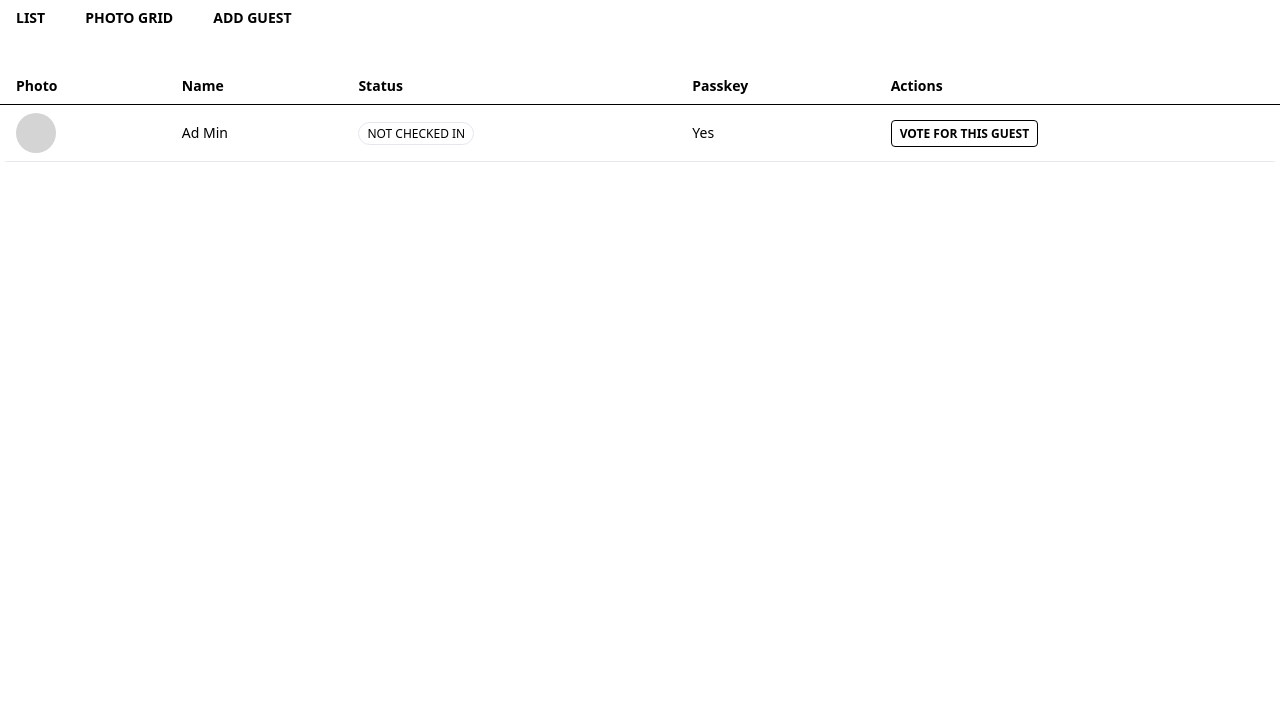
Test: Has passkey indicator › shows no Remove Passkey button for an admin, even one with a passkey
Click the text "Ad Min": point(191, 132) [166,104,342,162]
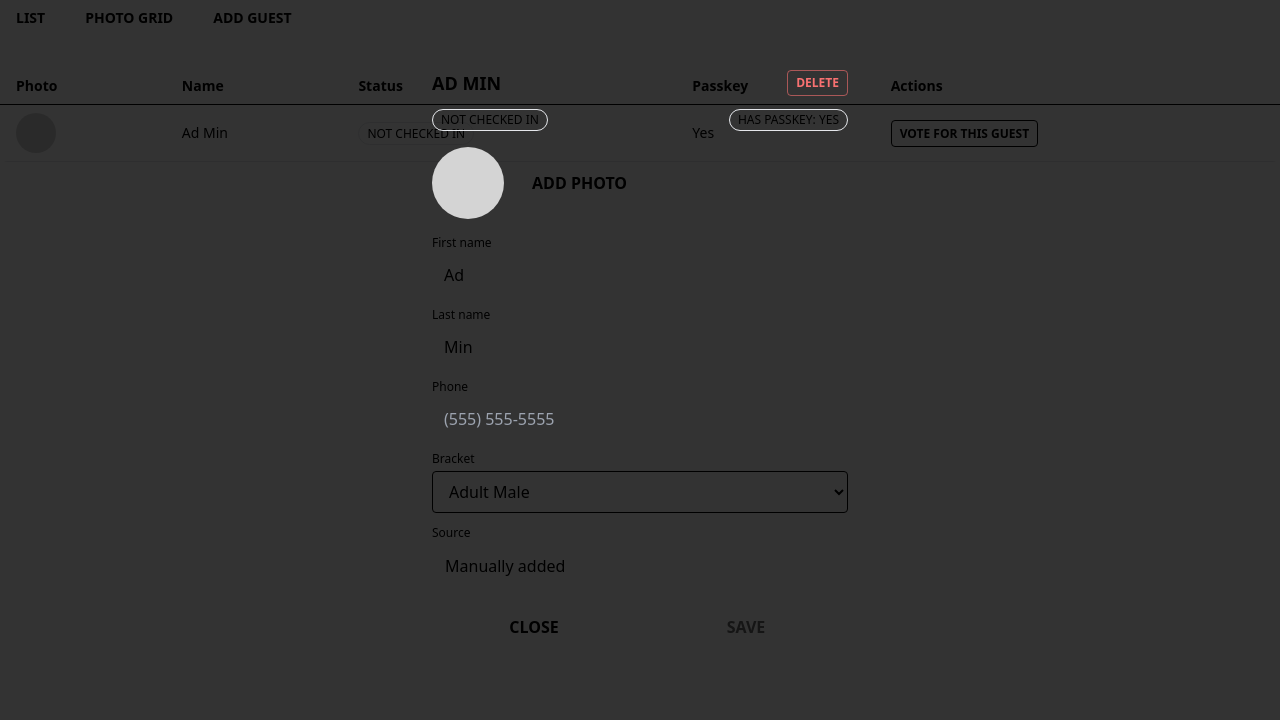
expect the text "Has passkey: Yes" is shown: met, box [729,109,848,131]
